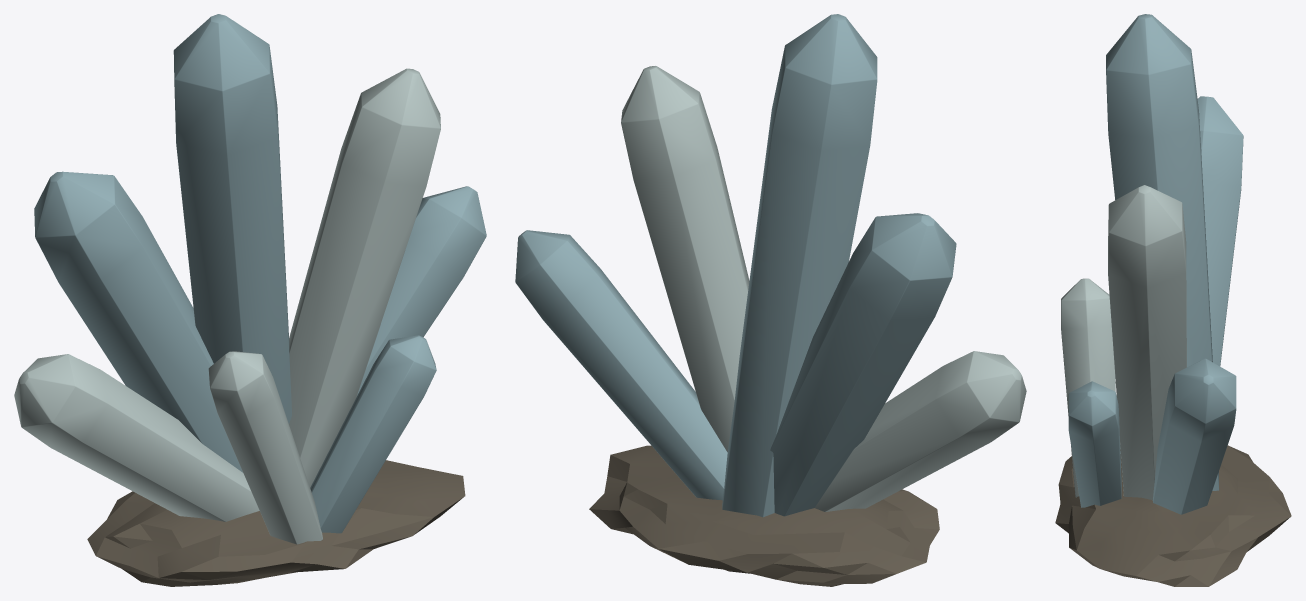
The model's file is crystal_fan_lod1.glb.
The picture shows the model from 3 angles, left to right: view 1: azimuth 30°, elevation 25°; view 2: azimuth 150°, elevation 25°; view 3: azimuth 270°, elevation 25°; orthographic projection. The views are drawn at different scales.
Visible parts, largest first — view 1: LOD1_ice, LOD1_ice_fracture, LOD1_Stone; view 2: LOD1_ice, LOD1_ice_fracture, LOD1_Stone; view 3: LOD1_ice, LOD1_ice_fracture, LOD1_Stone.
Boxes of the visible parts, left/top/right/bottom form: LOD1_ice: left=34, top=14, right=486, bottom=533; LOD1_ice_fracture: left=14, top=68, right=440, bottom=544; LOD1_Stone: left=87, top=460, right=465, bottom=586; LOD1_ice: left=515, top=14, right=956, bottom=517; LOD1_ice_fracture: left=621, top=66, right=1026, bottom=511; LOD1_Stone: left=589, top=445, right=939, bottom=586; LOD1_ice: left=1068, top=14, right=1243, bottom=514; LOD1_ice_fracture: left=1061, top=185, right=1186, bottom=499; LOD1_Stone: left=1055, top=445, right=1291, bottom=586.
Bounding box in the file's own units: 2.78 × 3.02 × 1.31.
